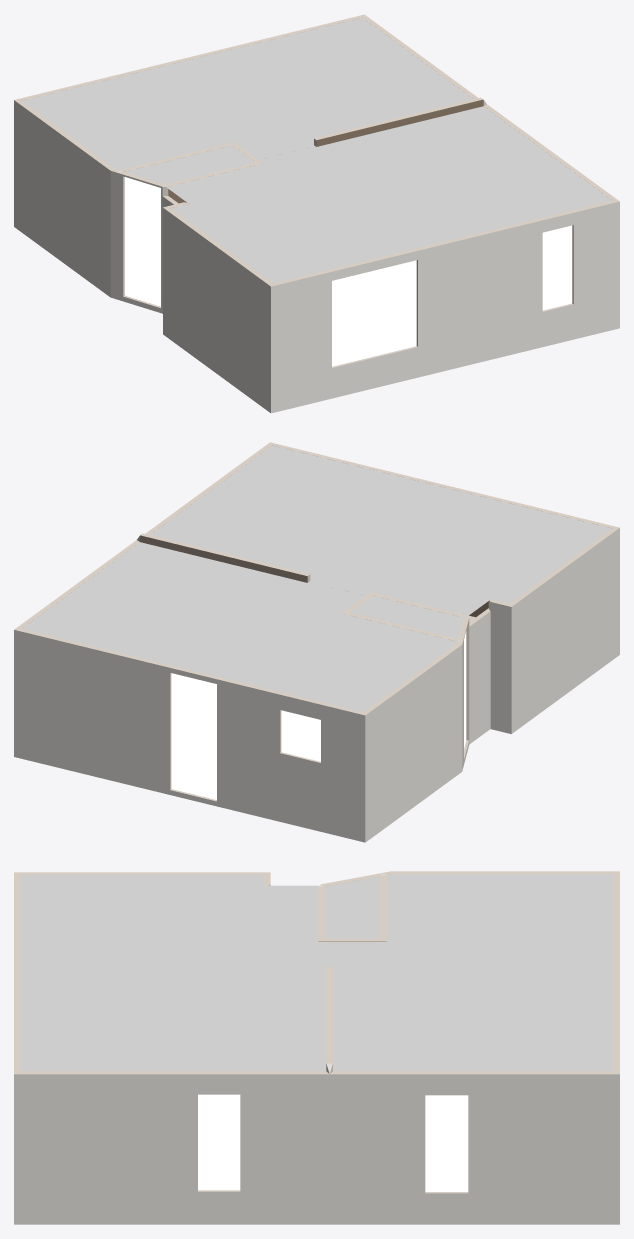
The model's file is 2026-11-06_scan1.glb.
3 views of the same model, one above another, from view 1: azimuth 30°, elevation 25°; view 2: azimuth 150°, elevation 25°; view 3: azimuth 270°, elevation 25° (orthographic). The views are drawn at different scales.
Parts seen in each view (by area): view 1: Ceiling_Room_1_1, Ceiling_Room_2, Wall_3, Wall_12, Wall_7, Window_1, Door_1, Window_2, Ceiling_Hallway, Ceiling_Room_1_0, Wall_11, Wall_4 (+4 smaller); view 2: Ceiling_Room_1_1, Wall_13, Ceiling_Room_2, Wall_12, Wall_7, Door_2, Wall_1, Wall_9, Ceiling_Hallway, Ceiling_Room_1_0, Wall_4, Window_4 (+4 smaller); view 3: Ceiling_Room_1_1, Ceiling_Room_2, Wall_5, Wall_0, Window_0, Window_3, Ceiling_Hallway, Ceiling_Room_1_0, Wall_13, Wall_3, Wall_12, Wall_7 (+1 smaller).
Part boxes in pixels (<box>): Ceiling_Room_1_1: <box>165,106,611,278</box>; Ceiling_Room_2: <box>22,17,473,170</box>; Wall_3: <box>271,200,619,413</box>; Wall_12: <box>163,207,272,412</box>; Wall_7: <box>14,100,114,297</box>; Window_1: <box>332,260,416,366</box>; Door_1: <box>124,177,160,306</box>; Window_2: <box>542,225,572,310</box>; Ceiling_Hallway: <box>124,145,254,184</box>; Ceiling_Room_1_0: <box>170,204,290,283</box>; Wall_11: <box>117,172,164,313</box>; Wall_4: <box>314,97,483,146</box>; Ceiling_Room_1_1: <box>150,445,593,616</box>; Wall_13: <box>14,629,365,842</box>; Ceiling_Room_2: <box>22,542,459,712</box>; Wall_12: <box>510,527,619,733</box>; Wall_7: <box>363,644,462,842</box>; Door_2: <box>171,673,216,799</box>; Wall_1: <box>489,599,511,733</box>; Wall_9: <box>469,608,490,744</box>; Ceiling_Hallway: <box>350,595,466,640</box>; Ceiling_Room_1_0: <box>491,524,611,603</box>; Wall_4: <box>140,533,310,582</box>; Window_4: <box>281,710,320,761</box>; Ceiling_Room_1_1: <box>20,885,329,1071</box>; Ceiling_Room_2: <box>329,874,613,1071</box>; Wall_5: <box>14,1071,329,1224</box>; Wall_0: <box>329,1071,619,1224</box>; Window_0: <box>425,1095,468,1191</box>; Window_3: <box>198,1094,240,1190</box>; Ceiling_Hallway: <box>322,874,383,938</box>; Ceiling_Room_1_0: <box>20,875,264,885</box>; Wall_13: <box>613,871,619,1073</box>; Wall_3: <box>14,872,20,1073</box>; Wall_12: <box>15,872,269,874</box>; Wall_7: <box>391,871,619,873</box>.
Bounding box in the file's own units: 7.52 × 2.74 × 9.49.
Materials: 14 (6 with a texture image).
